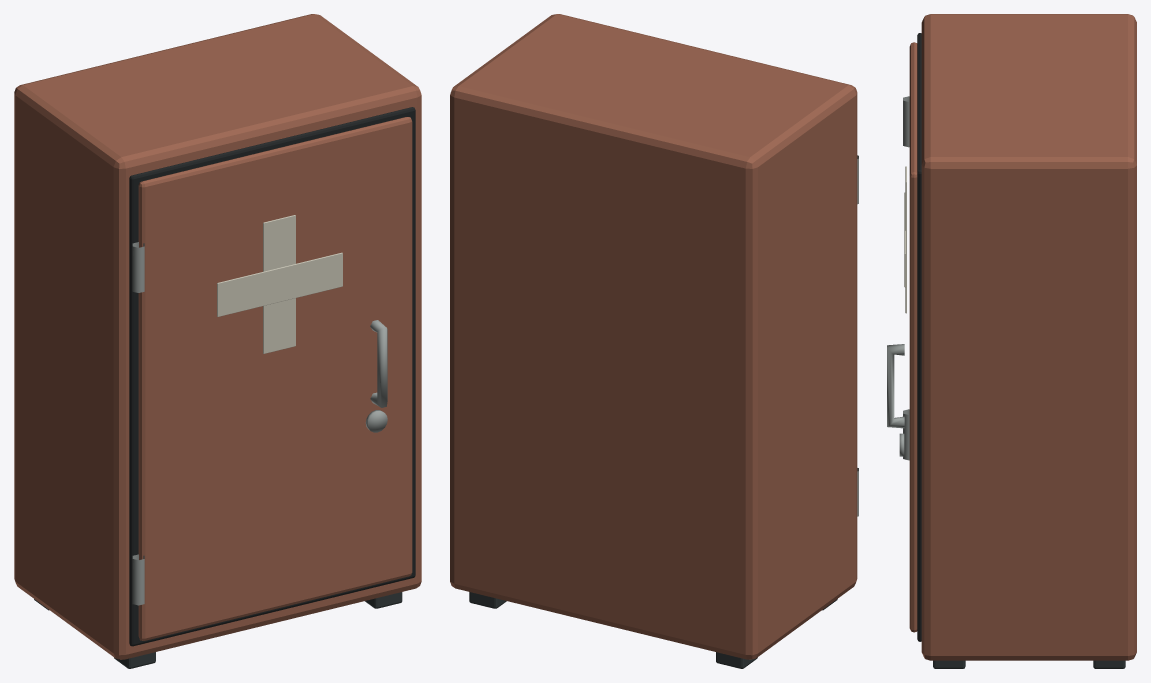
File: medical_cabinet.glb
3 renders of one model, left to right at view 1: azimuth 30°, elevation 25°; view 2: azimuth 150°, elevation 25°; view 3: azimuth 270°, elevation 25°, orthographic.
Visible parts, largest first — view 1: medical_cabinet; view 2: medical_cabinet; view 3: medical_cabinet.
Part boxes in pixels (left/top/right/bottom): medical_cabinet: left=14, top=14, right=421, bottom=668; medical_cabinet: left=450, top=14, right=858, bottom=668; medical_cabinet: left=887, top=14, right=1136, bottom=668.
Size of the model in its own units: 0.71 by 1.14 by 0.4993.
